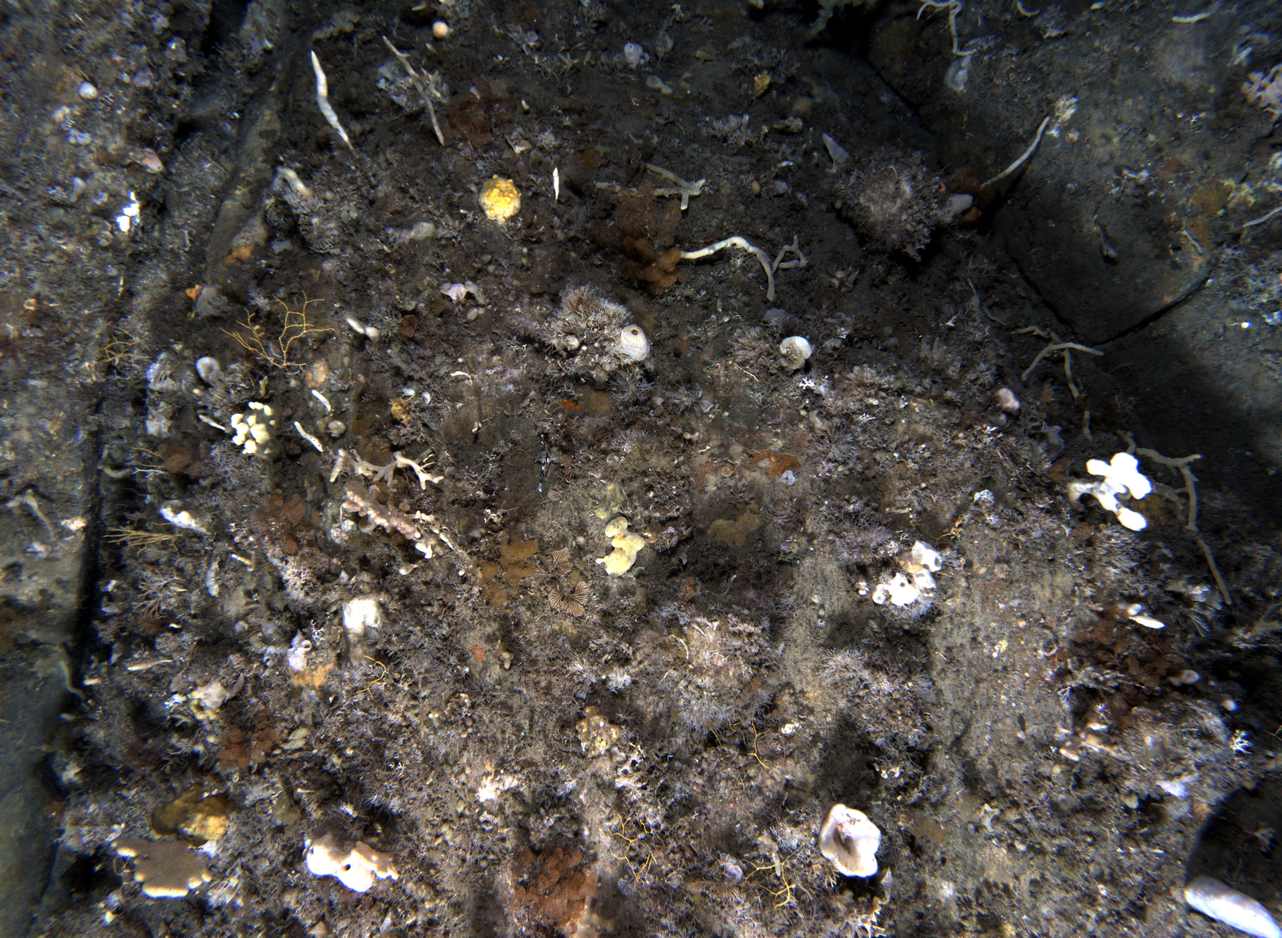Brachionichthyidae: (533, 441, 557, 494)
